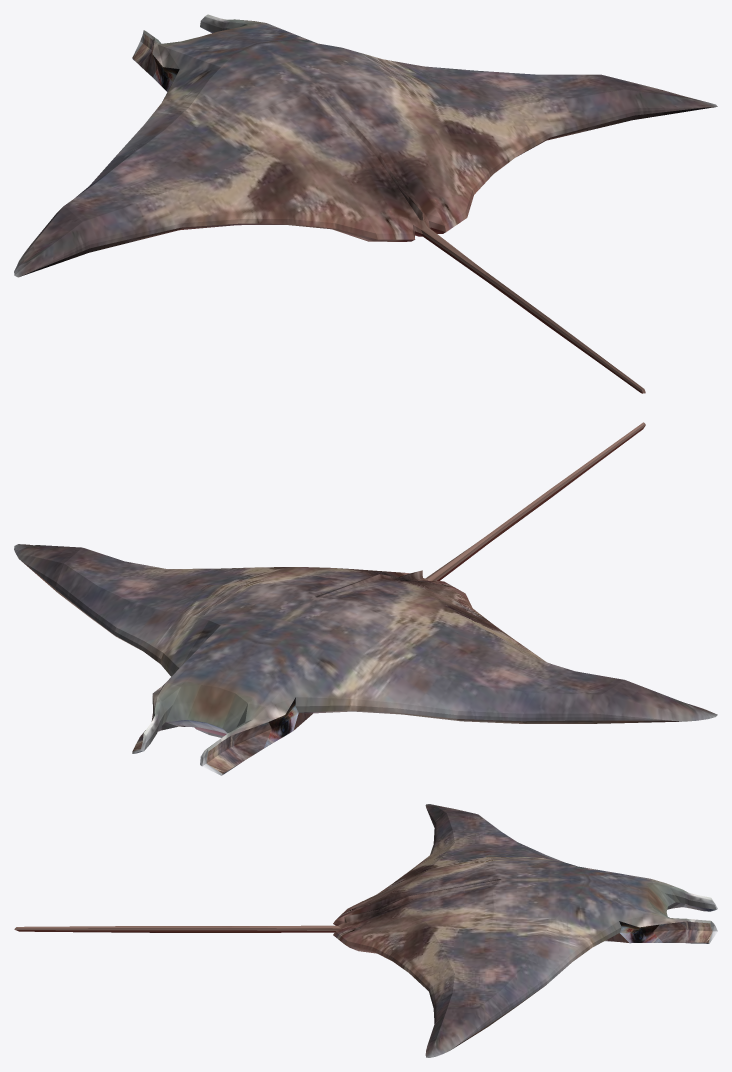
File: mobula-munkiana.glb
The picture shows the model from 3 angles, top to bottom: view 1: azimuth 30°, elevation 25°; view 2: azimuth 150°, elevation 25°; view 3: azimuth 270°, elevation 25°; orthographic projection. The views are drawn at different scales.
Visible parts, largest first — view 1: munks_devil_ray; view 2: munks_devil_ray; view 3: munks_devil_ray.
Boxes of the visible parts, <box> form: munks_devil_ray: <box>14,14,717,393</box>; munks_devil_ray: <box>14,422,717,775</box>; munks_devil_ray: <box>14,804,717,1057</box>.
Size of the model in its own units: 1.3 by 0.1352 by 1.52.
3 materials, 3 textured.
